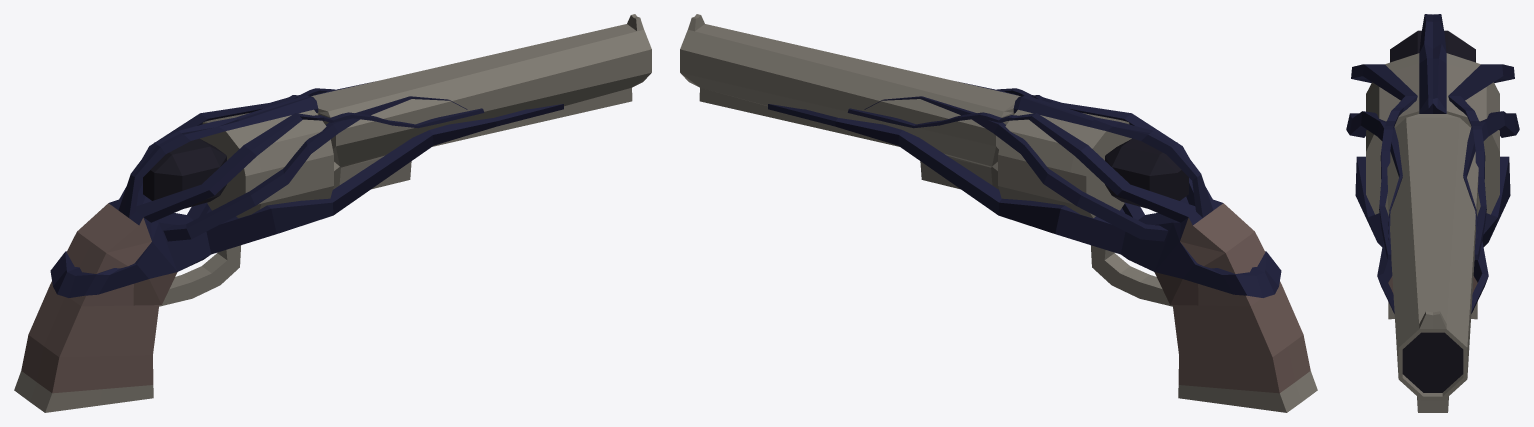
File: Revolver.fbx
3 views of the same model, side by side, from view 1: azimuth 30°, elevation 25°; view 2: azimuth 150°, elevation 25°; view 3: azimuth 270°, elevation 25° (orthographic). The views are drawn at different scales.
Parts seen in each view (by area): view 1: Cube.001; view 2: Cube.001; view 3: Cube.001.
Part boxes in pixels (<box>): Cube.001: <box>14,14,651,412</box>; Cube.001: <box>680,14,1317,412</box>; Cube.001: <box>1346,14,1519,412</box>.
Size of the model in its own units: 782 by 304 by 143.
